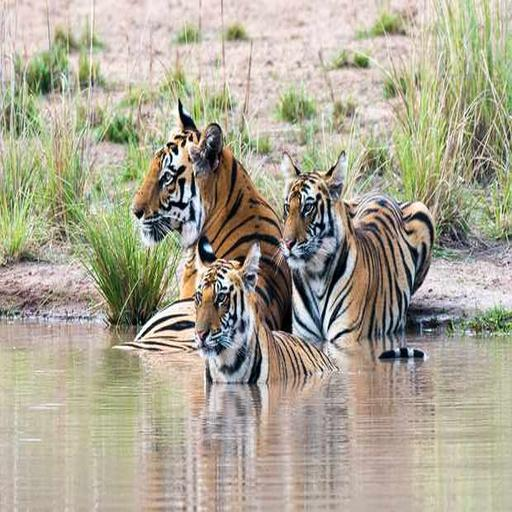Tiger: (100, 99, 292, 368), (176, 244, 433, 426), (275, 149, 446, 360)
